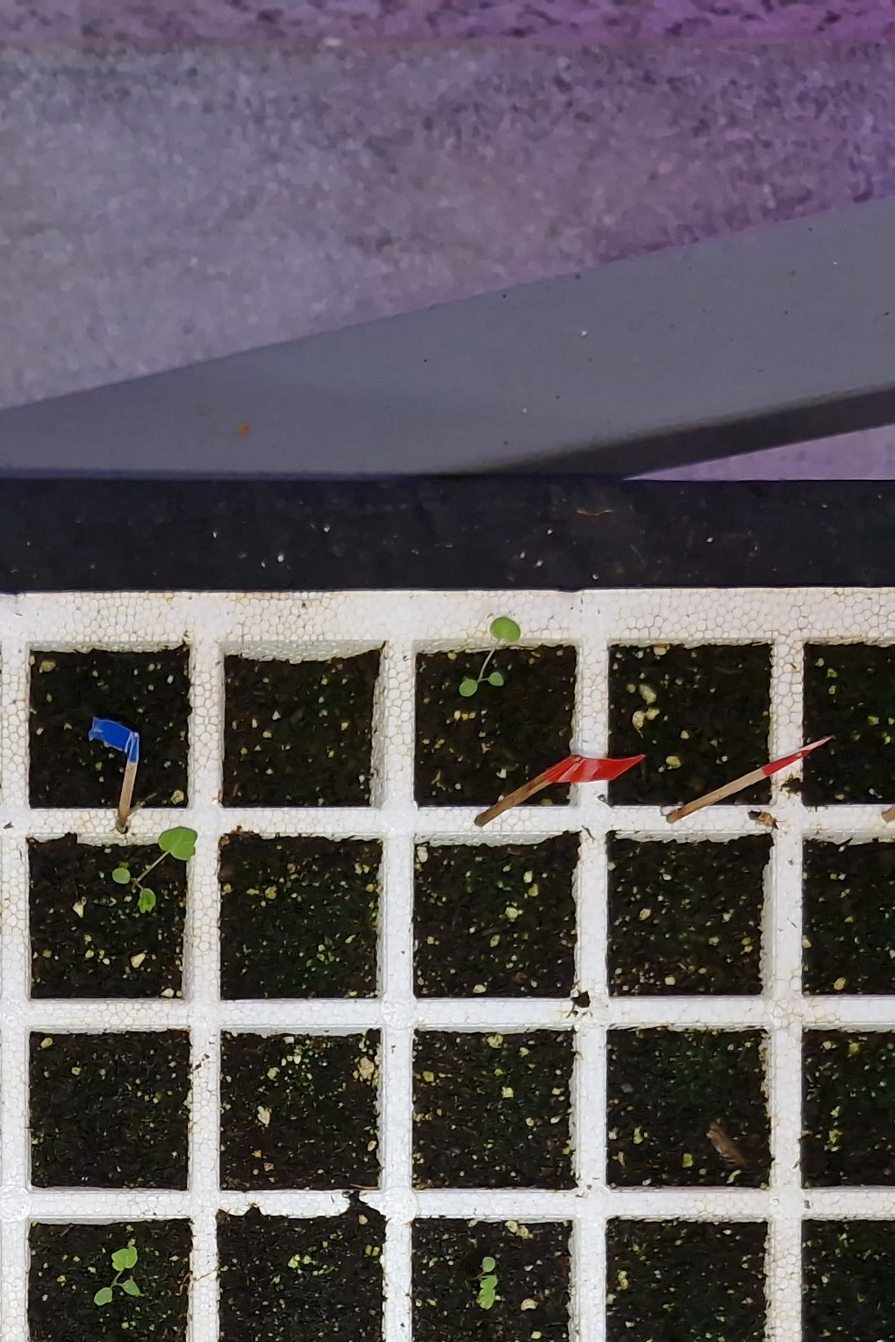Folha: (158, 826, 198, 861), (490, 617, 519, 642), (111, 1247, 138, 1271), (138, 888, 155, 913), (477, 1288, 496, 1310), (95, 1288, 113, 1305), (122, 1279, 140, 1295), (460, 680, 477, 696), (113, 868, 130, 883), (488, 671, 503, 685), (480, 1277, 497, 1289), (483, 1258, 495, 1272)
Germinacao: (113, 827, 197, 913), (459, 617, 520, 696), (95, 1246, 140, 1305), (472, 1256, 498, 1310)
